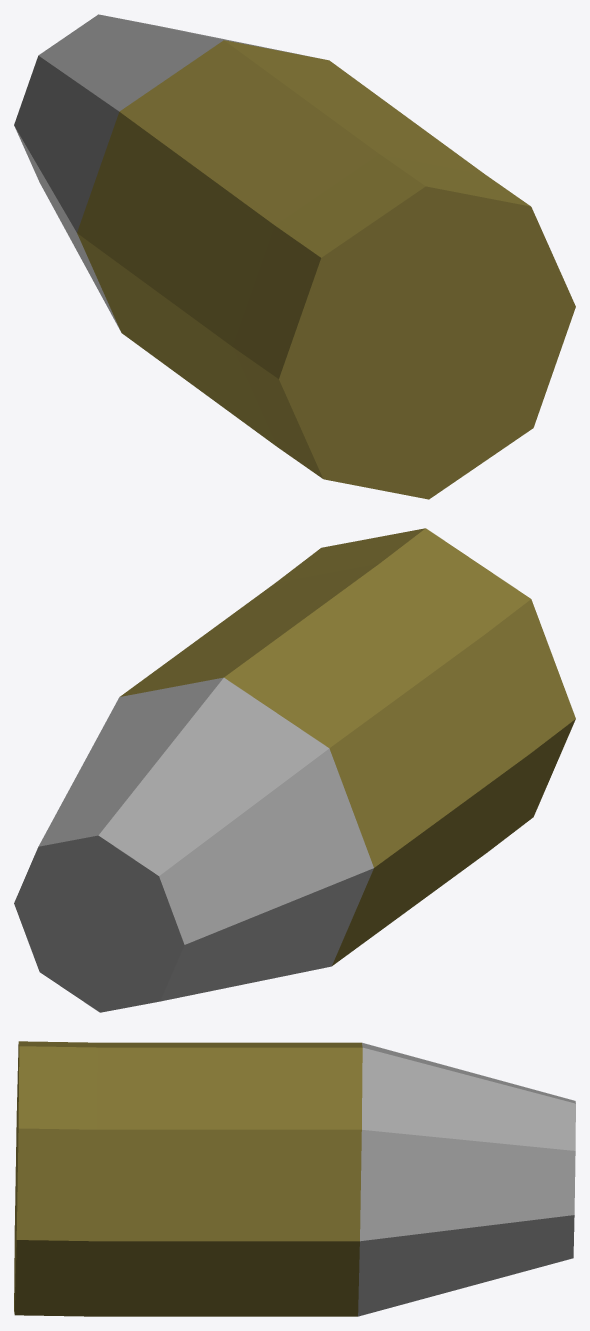
The model's file is Bullet.fbx.
The picture shows the model from 3 angles, top to bottom: view 1: azimuth 30°, elevation 25°; view 2: azimuth 150°, elevation 25°; view 3: azimuth 270°, elevation 25°; orthographic projection. The views are drawn at different scales.
Visible parts, largest first — view 1: Cylinder; view 2: Cylinder; view 3: Cylinder.
Part boxes in pixels (<box>): Cylinder: <box>14,14,575,499</box>; Cylinder: <box>14,528,575,1012</box>; Cylinder: <box>14,1041,575,1316</box>.
Size of the model in its own units: 200 by 201 by 385.
